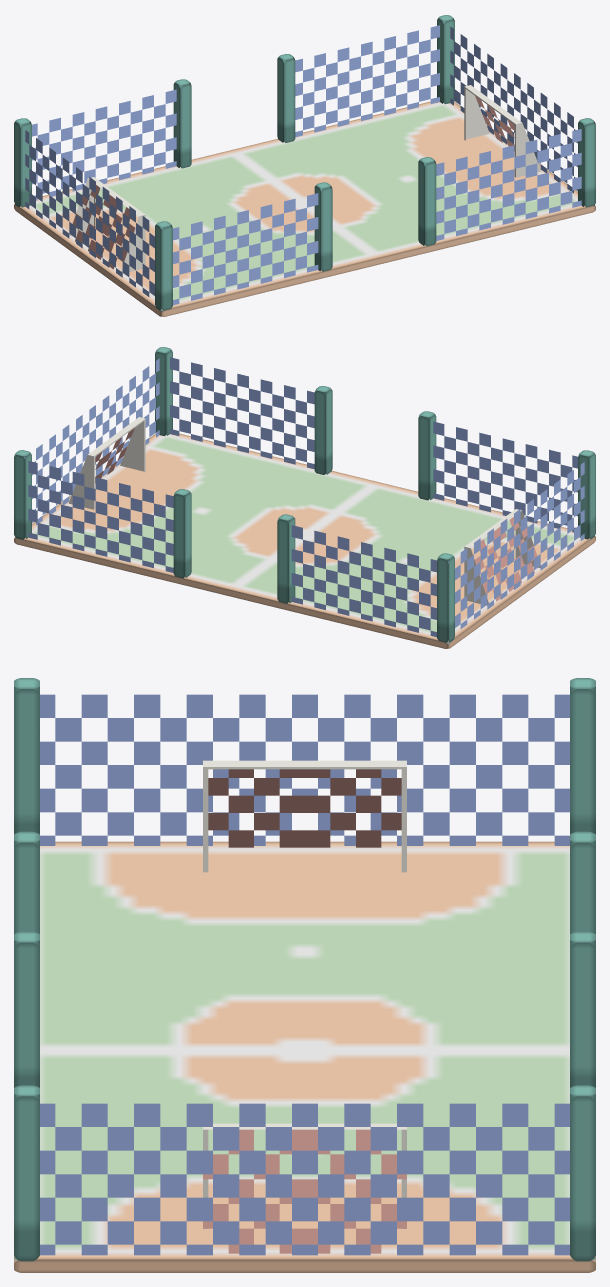
Rendered from Lapangan_Fix.fbx.
The picture shows the model from 3 angles, top to bottom: view 1: azimuth 30°, elevation 25°; view 2: azimuth 150°, elevation 25°; view 3: azimuth 270°, elevation 25°; orthographic projection. The views are drawn at different scales.
Parts seen in each view (by area): view 1: Lapangan, plane, plane_5, plane_2, plane_4, plane_3, Gawang, plane_1, cube_1, cube_2, cube_6, cube_4 (+4 smaller); view 2: Lapangan, plane_2, plane_3, plane, plane_4, plane_5, Gawang, plane_1, cube_2, cube_1, cube_5, cube_7 (+4 smaller); view 3: Lapangan, plane_1, plane_4, Gawang, cube, cube_3, cube_1, cube_2, cube_5, cube_6, cube_4, cube_7.
Part boxes in pixels (left/top/right/bottom): Lapangan: left=14, top=101, right=595, bottom=316; plane: left=436, top=129, right=581, bottom=240; plane_5: left=173, top=193, right=318, bottom=305; plane_2: left=295, top=25, right=439, bottom=137; plane_4: left=25, top=130, right=162, bottom=312; plane_3: left=32, top=89, right=176, bottom=200; Gawang: left=69, top=85, right=541, bottom=273; plane_1: left=450, top=26, right=585, bottom=193; cube_1: left=418, top=157, right=436, bottom=246; cube_2: left=277, top=54, right=295, bottom=142; cube_6: left=155, top=221, right=172, bottom=310; cube_4: left=173, top=79, right=191, bottom=168; Lapangan: left=14, top=433, right=595, bottom=648; plane_2: left=28, top=461, right=173, bottom=572; plane_3: left=291, top=525, right=436, bottom=637; plane: left=170, top=357, right=314, bottom=469; plane_4: left=447, top=462, right=584, bottom=644; plane_5: left=433, top=421, right=577, bottom=532; Gawang: left=68, top=417, right=540, bottom=605; plane_1: left=24, top=358, right=159, bottom=525; cube_2: left=173, top=489, right=191, bottom=578; cube_1: left=314, top=386, right=332, bottom=474; cube_5: left=437, top=553, right=454, bottom=642; cube_7: left=418, top=411, right=436, bottom=500; Lapangan: left=14, top=841, right=595, bottom=1272; plane_1: left=40, top=1103, right=569, bottom=1255; plane_4: left=40, top=694, right=569, bottom=845; Gawang: left=203, top=760, right=406, bottom=1253; cube: left=14, top=1085, right=39, bottom=1261; cube_3: left=570, top=1085, right=595, bottom=1261; cube_1: left=14, top=931, right=39, bottom=1087; cube_2: left=570, top=931, right=595, bottom=1087; cube_5: left=570, top=678, right=595, bottom=833; cube_6: left=14, top=678, right=39, bottom=833; cube_4: left=570, top=831, right=595, bottom=933; cube_7: left=14, top=831, right=39, bottom=933.
Bounding box in the file's own units: 3756 × 739 × 2208.
3 materials, 3 textured.
